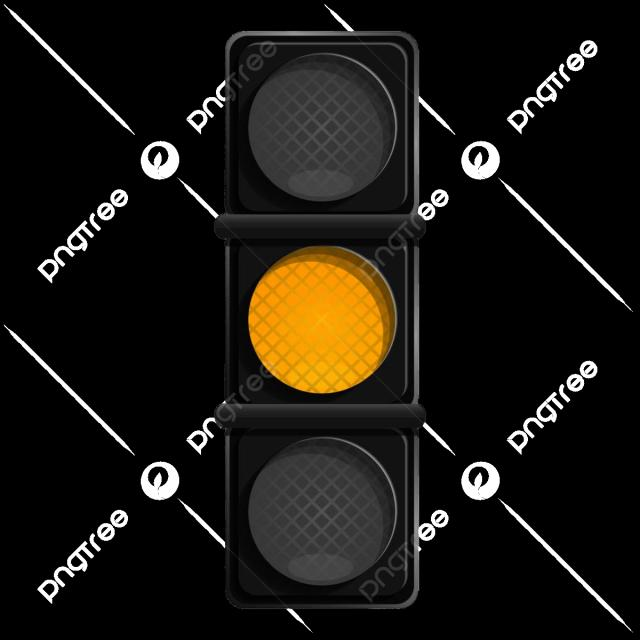Kuning: (246, 242, 398, 396)
